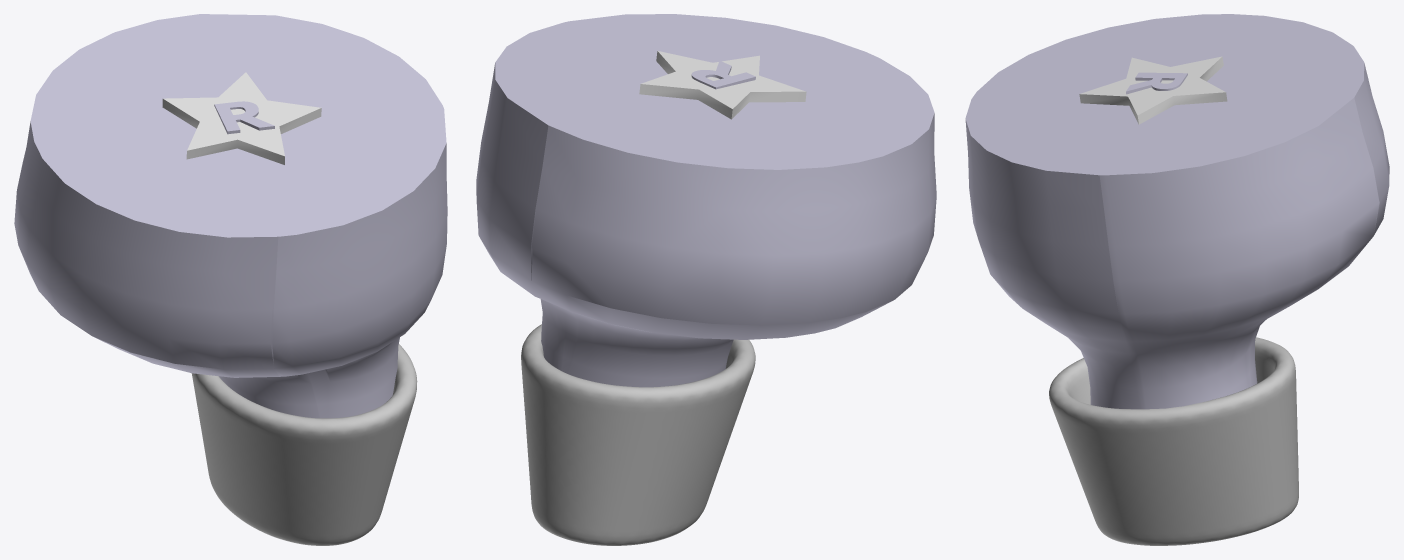
File: earbuds.gltf
3 renders of one model, left to right at view 1: azimuth 30°, elevation 25°; view 2: azimuth 150°, elevation 25°; view 3: azimuth 270°, elevation 25°, orthographic. The views are drawn at different scales.
Visible parts, largest first — view 1: polygon object, loft, extrude (×2); view 2: polygon object, loft, extrude (×2); view 3: polygon object, loft, extrude (×2).
Part boxes in pixels (box(x1,y1,x2,y2)): polygon object: box(14, 14, 447, 418); loft: box(191, 344, 417, 545); extrude (×2): box(162, 72, 321, 164); polygon object: box(476, 14, 936, 387); loft: box(521, 324, 755, 545); extrude (×2): box(639, 51, 806, 119); polygon object: box(965, 14, 1389, 409); loft: box(1049, 337, 1298, 545); extrude (×2): box(1079, 56, 1227, 124).
Size of the model in its own units: 208 by 232 by 210.
